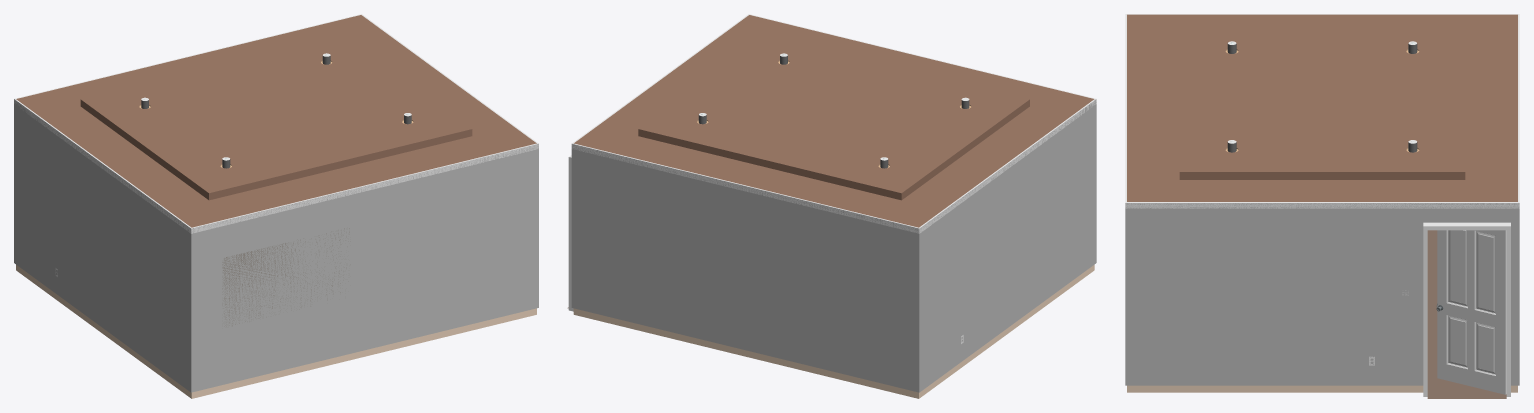
Rendered from studio.obj.
3 views of the same model, side by side, from view 1: azimuth 30°, elevation 25°; view 2: azimuth 150°, elevation 25°; view 3: azimuth 270°, elevation 25° (orthographic). The views are drawn at different scales.
Parts seen in each view (by area): view 1: Mesh11 Group7 Model, Mesh9 Group1 Model, Mesh1349 Group237 Component_2_1 Model; view 2: Mesh11 Group7 Model, Mesh9 Group1 Model, Mesh10 Group6 Model; view 3: Mesh9 Group1 Model, Mesh11 Group7 Model, Mesh12 Group8 Model, Mesh10 Group6 Model, Mesh1267 L_RAIL1 L_Panel1 TruStile_TS4000_1 Model, Mesh1266 R_RAIL1 L_Panel1 TruStile_TS4000_1 Model, Mesh1269 B_RAIL1 L_Panel1 TruStile_TS4000_1 Model, Mesh1335 A_CC4 Raised_Panel_copy_003 L_Panel1 TruStile_TS4000_1 , Mesh1299 A_CC3 Raised_Panel_copy_002 L_Panel1 TruStile_TS4000_1 , Mesh1268 C_RAIL1 L_Panel1 TruStile_TS4000_1 Model, Mesh1326 C_RAIL2_copy_001 L_Panel1 TruStile_TS4000_1 Model, Mesh1296 A_CR3 Raised_Panel_copy_002 L_Panel1 TruStile_TS4000_1  (+6 smaller).
Boxes of the visible parts, <box> form: Mesh11 Group7 Model: <box>14,100,538,398</box>; Mesh9 Group1 Model: <box>14,14,538,233</box>; Mesh1349 Group237 Component_2_1 Model: <box>222,228,350,326</box>; Mesh11 Group7 Model: <box>571,99,1096,398</box>; Mesh9 Group1 Model: <box>571,14,1096,233</box>; Mesh10 Group6 Model: <box>568,155,573,311</box>; Mesh9 Group1 Model: <box>1125,14,1519,208</box>; Mesh11 Group7 Model: <box>1125,203,1519,392</box>; Mesh12 Group8 Model: <box>1427,230,1506,398</box>; Mesh10 Group6 Model: <box>1423,222,1510,396</box>; Mesh1267 L_RAIL1 L_Panel1 TruStile_TS4000_1 Model: <box>1496,230,1506,394</box>; Mesh1266 R_RAIL1 L_Panel1 TruStile_TS4000_1 Model: <box>1437,230,1446,380</box>; Mesh1269 B_RAIL1 L_Panel1 TruStile_TS4000_1 Model: <box>1446,364,1495,392</box>; Mesh1335 A_CC4 Raised_Panel_copy_003 L_Panel1 TruStile_TS4000_1 : <box>1453,231,1462,299</box>; Mesh1299 A_CC3 Raised_Panel_copy_002 L_Panel1 TruStile_TS4000_1 : <box>1481,238,1490,306</box>; Mesh1268 C_RAIL1 L_Panel1 TruStile_TS4000_1 Model: <box>1446,303,1495,326</box>; Mesh1326 C_RAIL2_copy_001 L_Panel1 TruStile_TS4000_1 Model: <box>1468,230,1474,309</box>; Mesh1296 A_CR3 Raised_Panel_copy_002 L_Panel1 TruStile_TS4000_1 : <box>1476,236,1481,304</box>.
Size of the model in its own units: 210 by 104 by 180.
